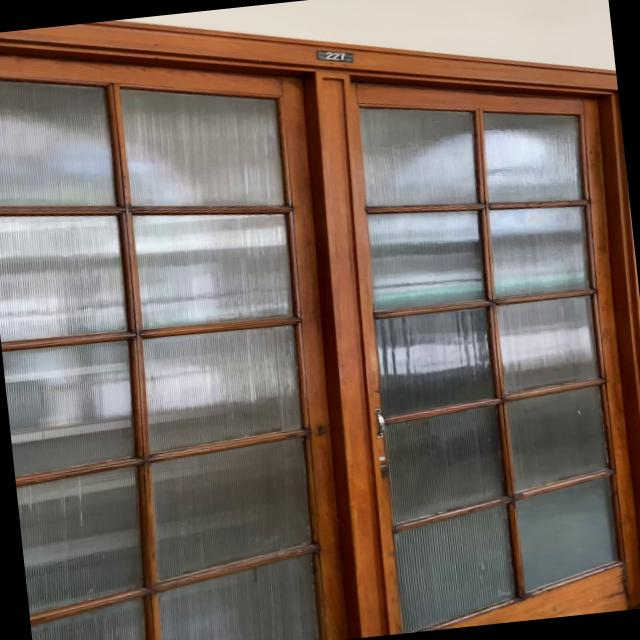room227: (313, 44, 355, 67)
